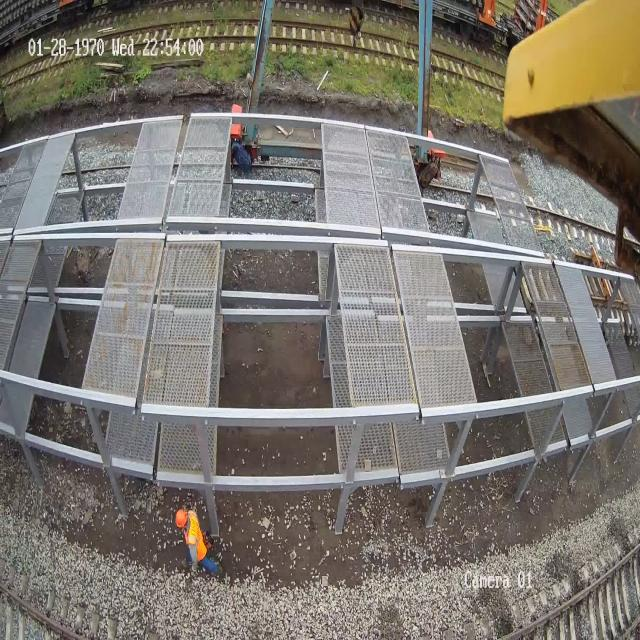Helmet: (175, 508, 187, 528)
Person: (175, 508, 222, 575)
